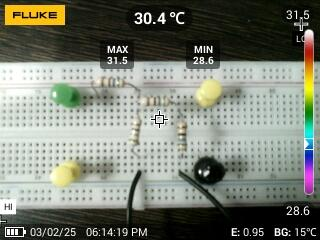resistor: (174, 118, 190, 157), (138, 93, 174, 110), (127, 114, 143, 151), (93, 75, 128, 90)
